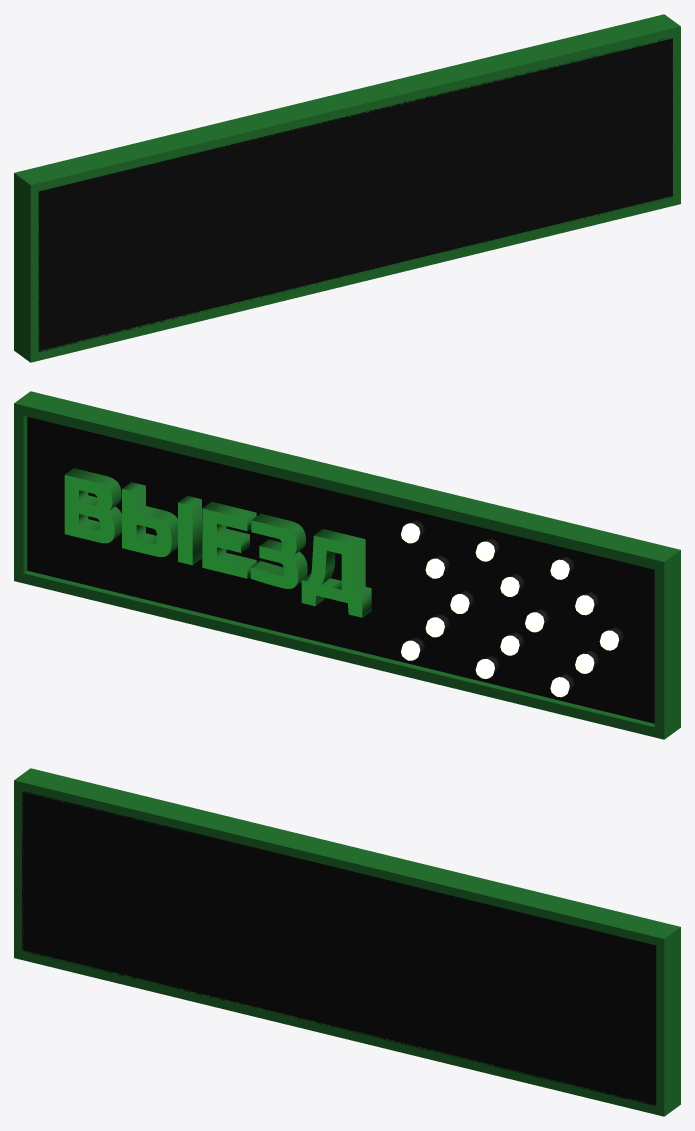
Rendered from arrow_exit_right.glb.
3 renders of one model, top to bottom at view 1: azimuth 30°, elevation 25°; view 2: azimuth 150°, elevation 25°; view 3: azimuth 330°, elevation 25°, orthographic.
Parts seen in each view (by area): view 1: Sign; view 2: Sign, BulbsA, BulbsB; view 3: Sign.
Part boxes in pixels (box(x1,y1,x2,y2)): Sign: box(14, 14, 680, 362); Sign: box(14, 391, 680, 739); BulbsA: box(401, 523, 618, 697); BulbsB: box(475, 541, 544, 678); Sign: box(14, 768, 680, 1116).
Bounding box in the file's own units: 4.06 × 1.06 × 0.268.
Materials: 2 (1 with a texture image).
